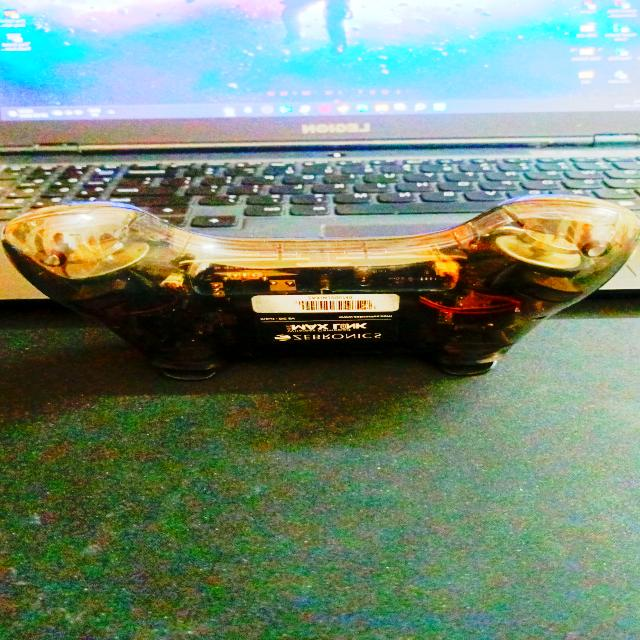gamepad: (2, 193, 640, 381)
